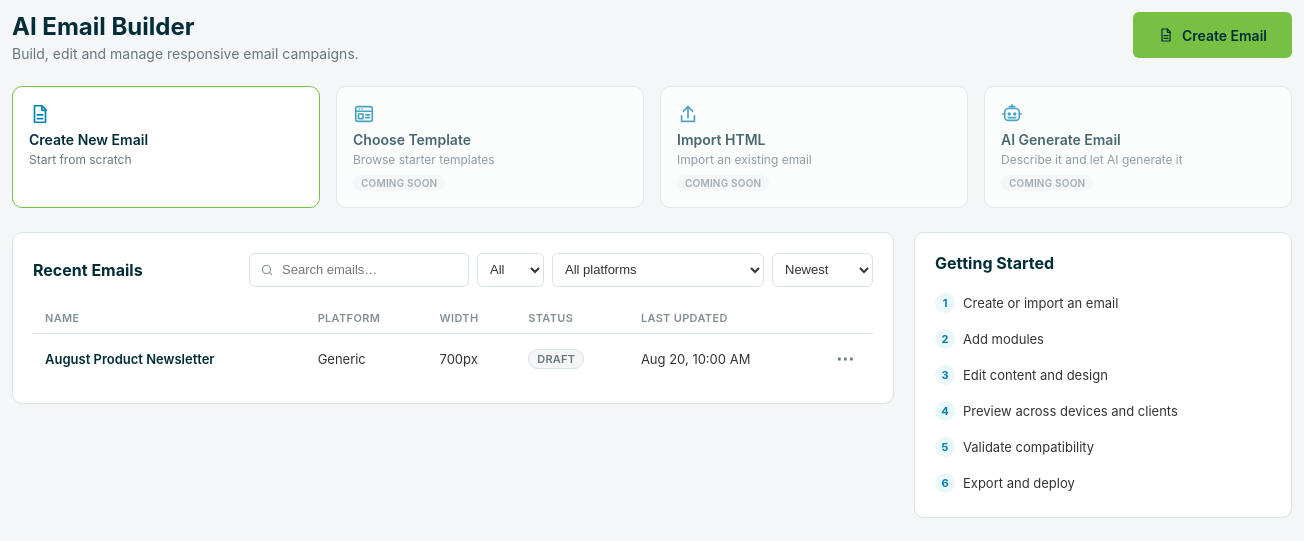
it: EmailBuilderDashboardPage — row actions › the kebab menu opens with Open/Duplicate/Rename/Delete
Check: the link "August Product Newsletter" is shown, box x1=45 y1=350 x2=214 y2=366
Click the button named "Actions for August Product Newsletter" at (845, 358), box x1=829 y1=342 x2=861 y2=374
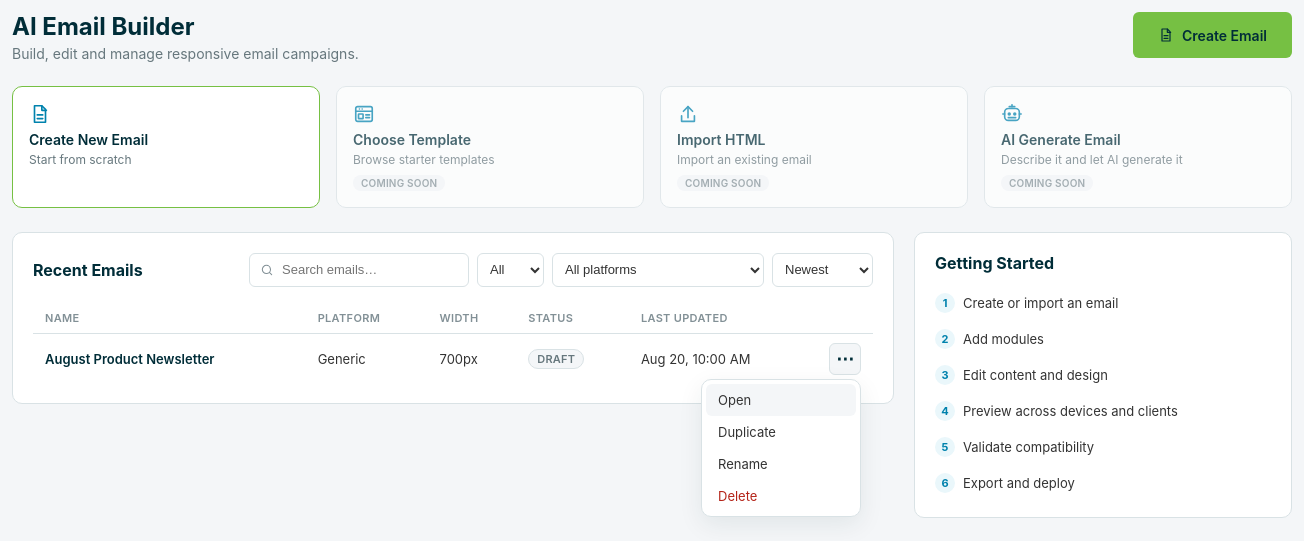
Check: the menu item "Open" is shown, box x1=706 y1=384 x2=856 y2=416
Check: the menu item "Duplicate" is shown, box x1=706 y1=416 x2=856 y2=448
Check: the menu item "Rename" is shown, box x1=706 y1=448 x2=856 y2=480
